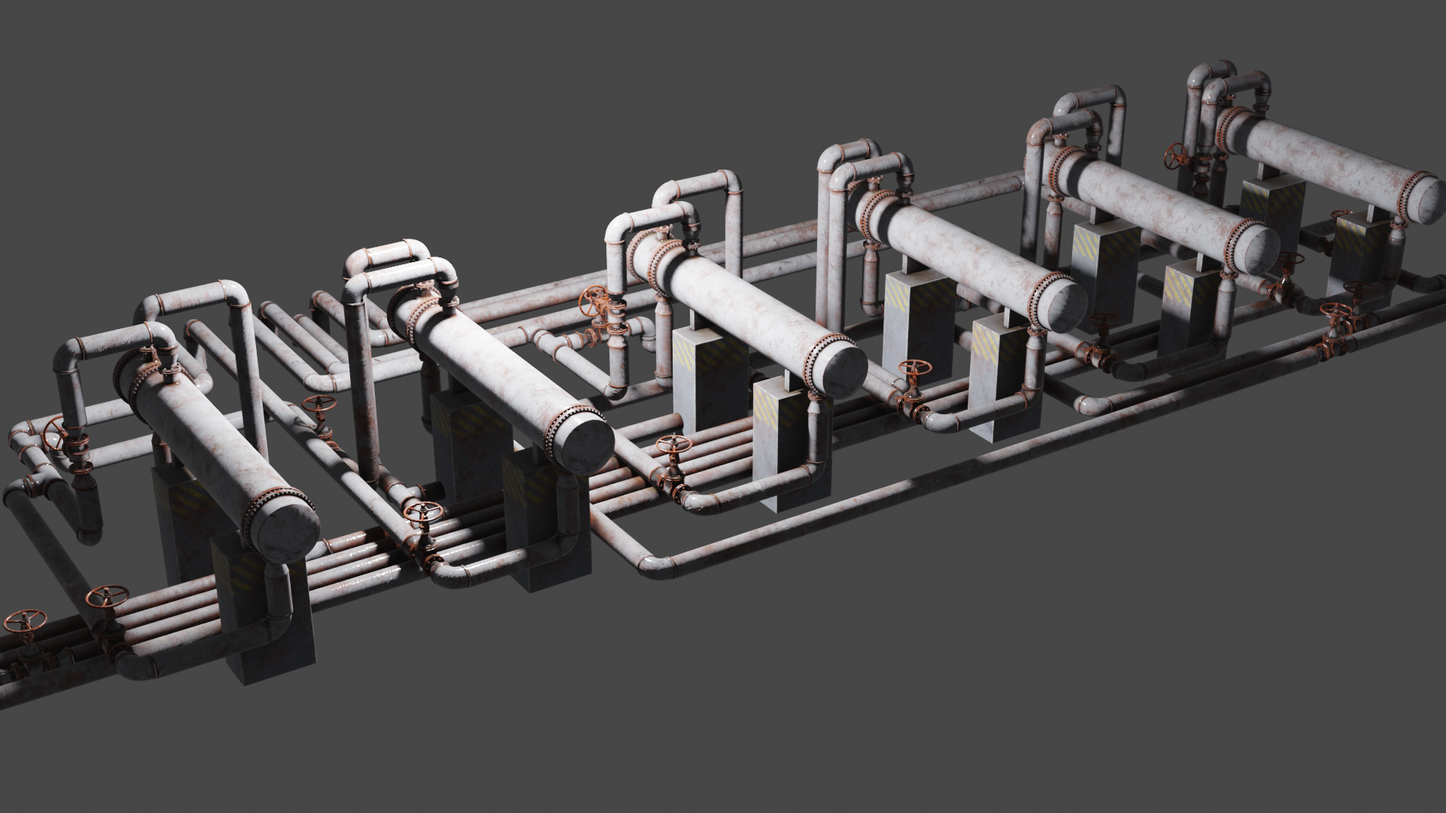HE_1: (1217, 97, 1446, 220)
HE_2: (1036, 129, 1281, 274)
HE_3: (847, 176, 1089, 330)
HE_4: (623, 223, 868, 397)
HE_5: (384, 281, 614, 474)
HE_6: (107, 347, 324, 561)
